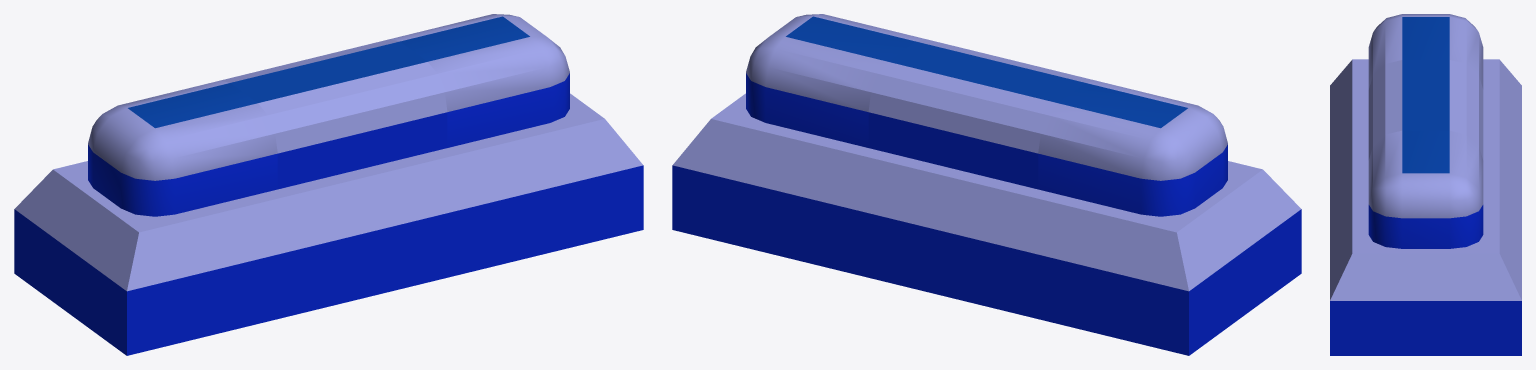
Rendered from buttonmodel2.fbx.
3 views of the same model, side by side, from view 1: azimuth 30°, elevation 25°; view 2: azimuth 150°, elevation 25°; view 3: azimuth 270°, elevation 25° (orthographic). The views are drawn at different scales.
Visible parts, largest first — view 1: buttonoptionalbase, buttonmid, buttonright, buttonleft; view 2: buttonoptionalbase, buttonmid, buttonright, buttonleft; view 3: buttonoptionalbase, buttonleft, buttonmid, buttonright.
Part boxes in pixels (bbox=[...]): buttonoptionalbase: bbox=[14, 93, 643, 355]; buttonmid: bbox=[220, 39, 447, 189]; buttonright: bbox=[88, 80, 277, 216]; buttonleft: bbox=[390, 14, 569, 147]; buttonoptionalbase: bbox=[672, 93, 1301, 355]; buttonmid: bbox=[868, 39, 1095, 189]; buttonright: bbox=[1038, 80, 1227, 216]; buttonleft: bbox=[746, 14, 925, 147]; buttonoptionalbase: bbox=[1330, 59, 1521, 355]; buttonleft: bbox=[1368, 130, 1483, 248]; buttonmid: bbox=[1368, 60, 1483, 159]; buttonright: bbox=[1368, 14, 1483, 89].
Size of the model in its own units: 3.77 by 1.25 by 1.42.
